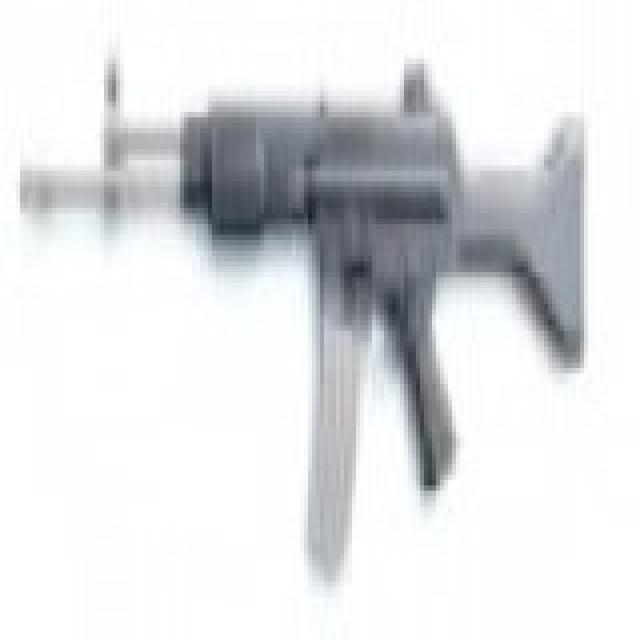Gun: (13, 43, 611, 584)
